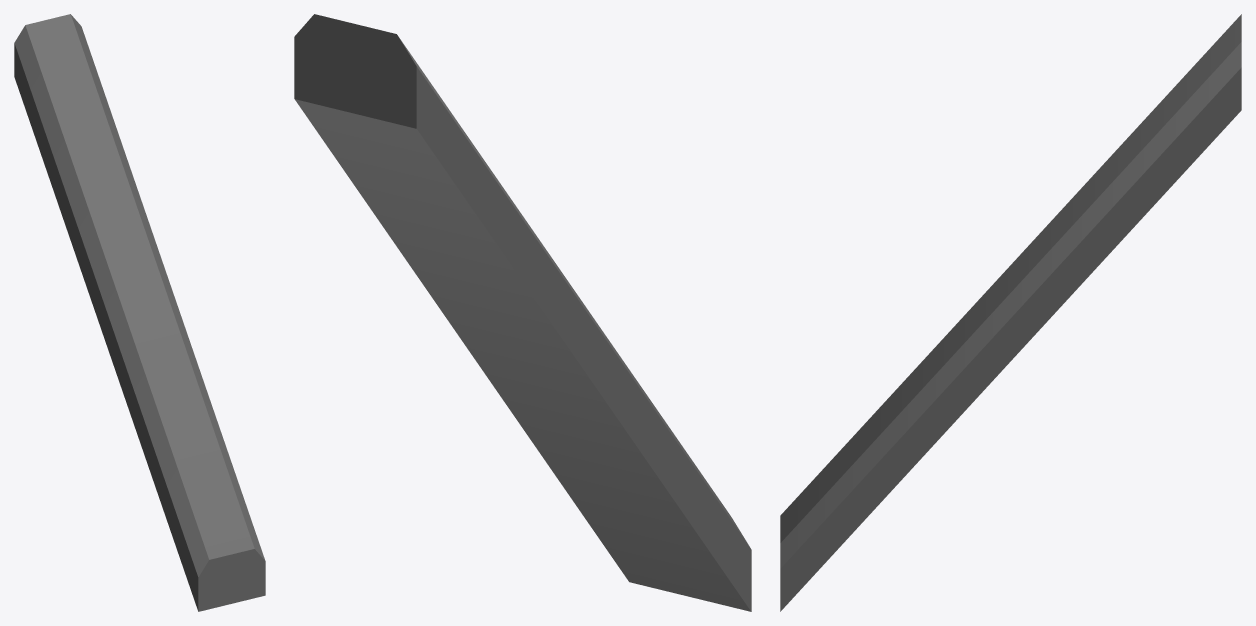
File: SM_Bld_Base_Roof_Cap_Angle_Half_01.glb
3 views of the same model, side by side, from view 1: azimuth 30°, elevation 25°; view 2: azimuth 150°, elevation 25°; view 3: azimuth 270°, elevation 25° (orthographic). The views are drawn at different scales.
Visible parts, largest first — view 1: SM_Bld_Base_Roof_Cap_Angle_Half_01; view 2: SM_Bld_Base_Roof_Cap_Angle_Half_01; view 3: SM_Bld_Base_Roof_Cap_Angle_Half_01.
Boxes of the visible parts, x1,y1,x2,y2 form: SM_Bld_Base_Roof_Cap_Angle_Half_01: [14, 14, 265, 611]; SM_Bld_Base_Roof_Cap_Angle_Half_01: [294, 14, 751, 611]; SM_Bld_Base_Roof_Cap_Angle_Half_01: [780, 14, 1241, 611].
Size of the model in its own units: 0.2635 by 1.69 by 1.25.
1 material, 1 textured.
